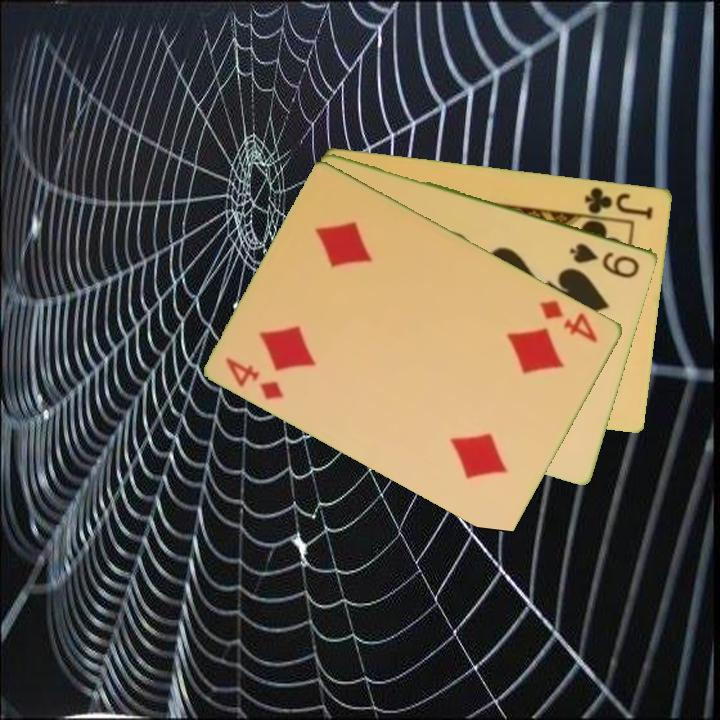4d: (537, 296, 602, 346), (222, 354, 287, 403)
9s: (566, 239, 643, 281)
Jc: (581, 183, 657, 222)
